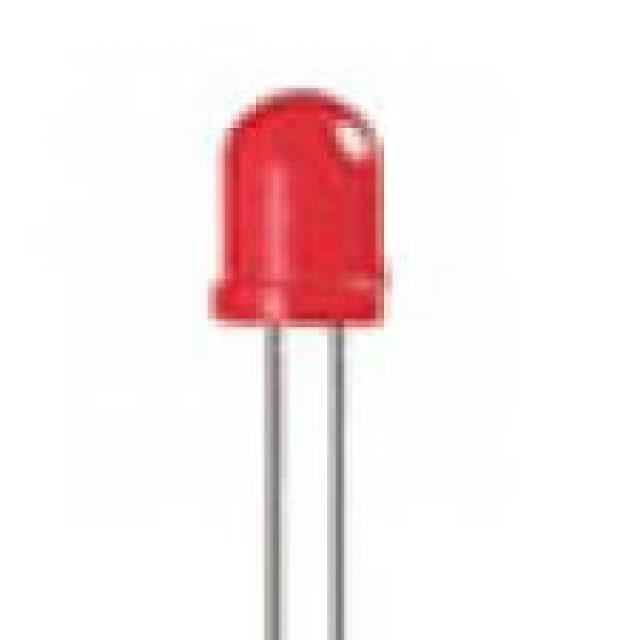Led: (212, 89, 382, 640)
